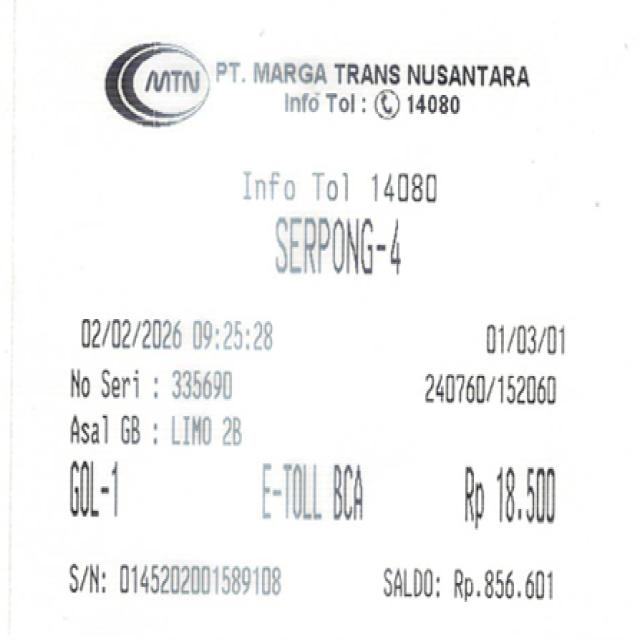date: (73, 308, 279, 360)
store: (209, 54, 534, 93)
total: (452, 461, 562, 537)
